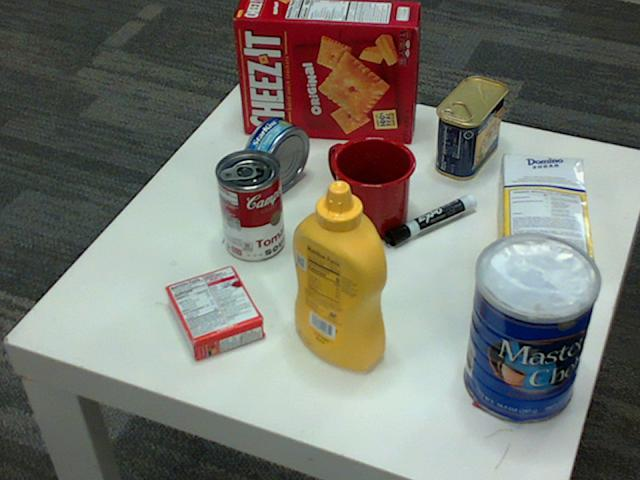cracker_box: (235, 0, 419, 142)
gelatin_box: (161, 264, 261, 361)
large_marker: (385, 197, 477, 245)
master_chef_can: (465, 234, 603, 425)
mug: (327, 134, 415, 237)
mustard_bottle: (292, 182, 386, 371)
potted_meat_can: (434, 78, 505, 180)
sugar_box: (499, 153, 593, 290)
tomato_soup_can: (215, 150, 284, 262)
tuna_fish_can: (240, 116, 308, 194)
